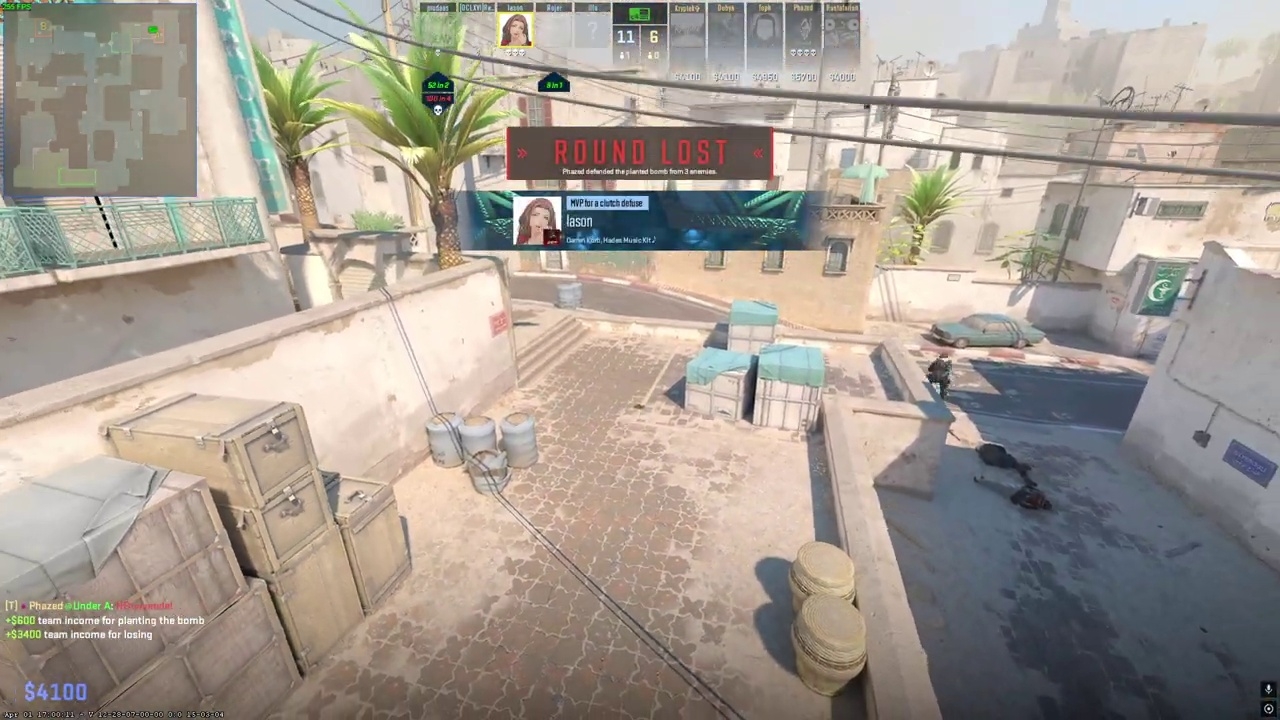CT: (931, 352, 952, 400)
